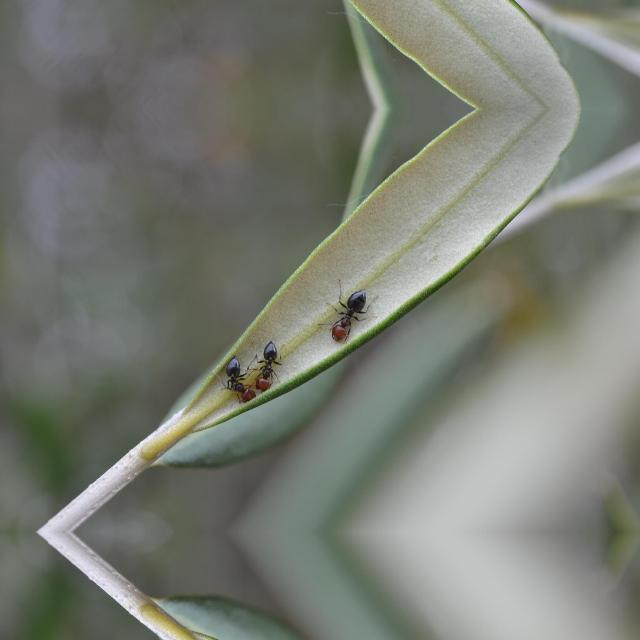Crematogaster: (326, 281, 368, 339), (220, 356, 258, 406), (254, 343, 286, 389)
